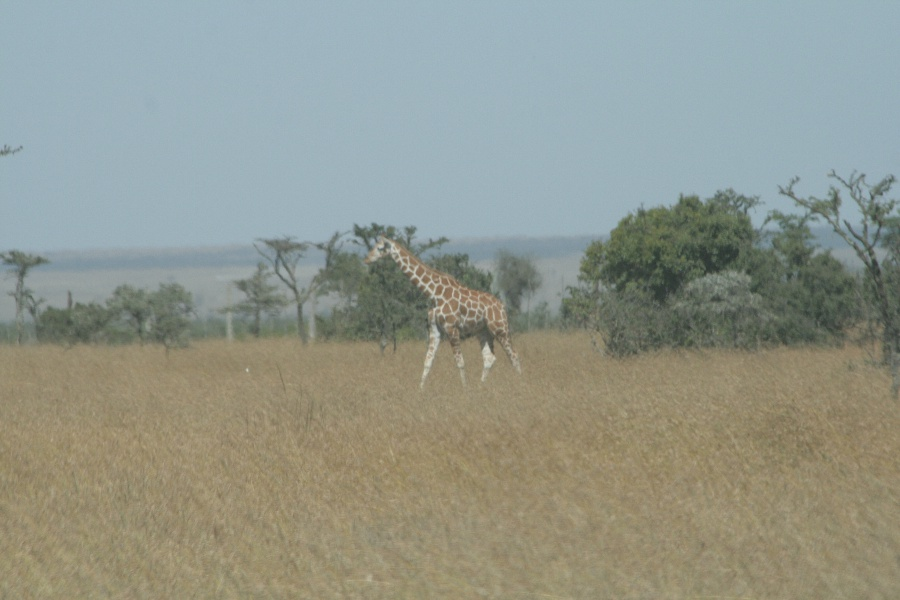giraffe: (358, 228, 524, 396)
